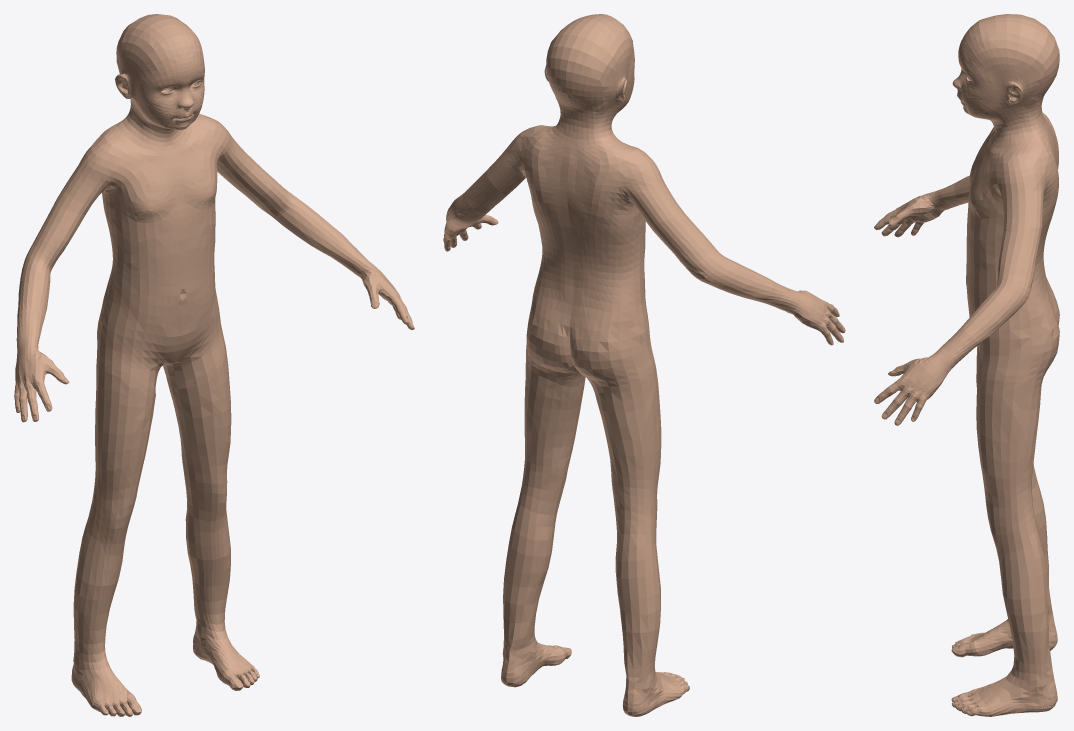
The model's file is peds_fever_patient_child.anny_base.obj.
3 renders of one model, left to right at view 1: azimuth 30°, elevation 25°; view 2: azimuth 150°, elevation 25°; view 3: azimuth 270°, elevation 25°, orthographic.
Bounding box in the file's own units: 0.769 × 1.25 × 0.3177.
